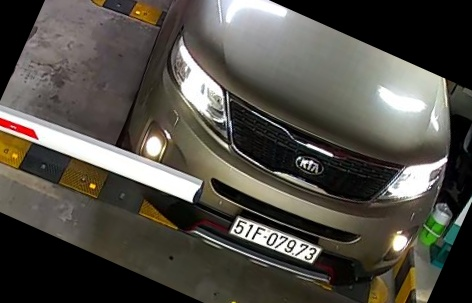plate: (226, 214, 320, 269)
